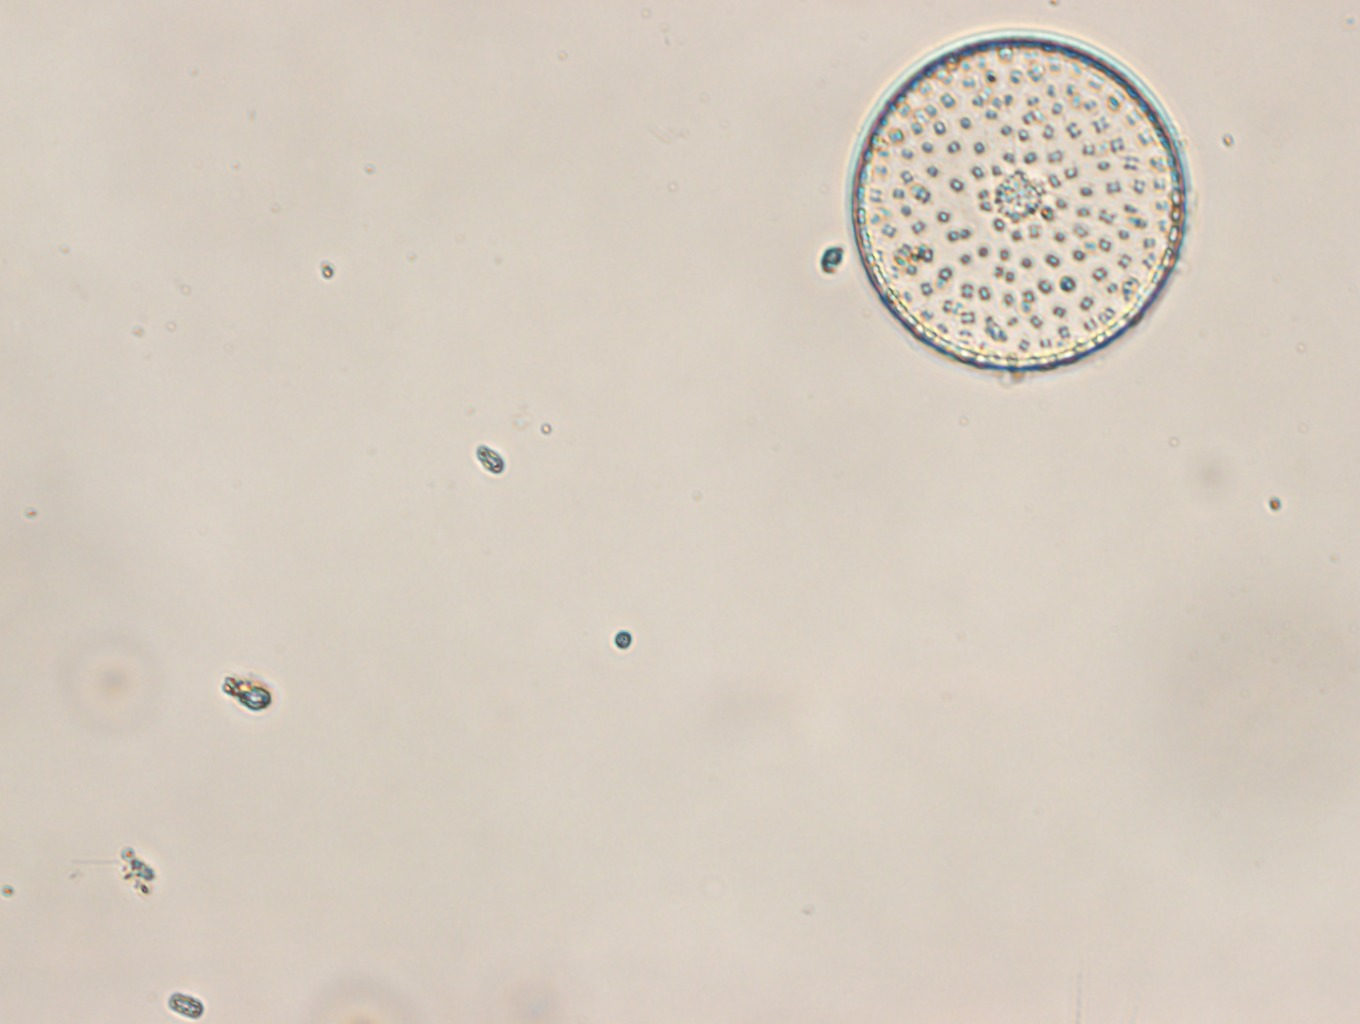coscinodiscus: (843, 27, 1188, 378)
